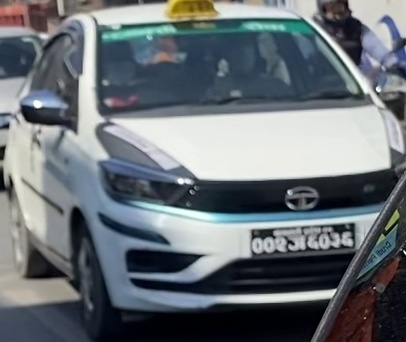license_plate: (250, 223, 355, 256)
